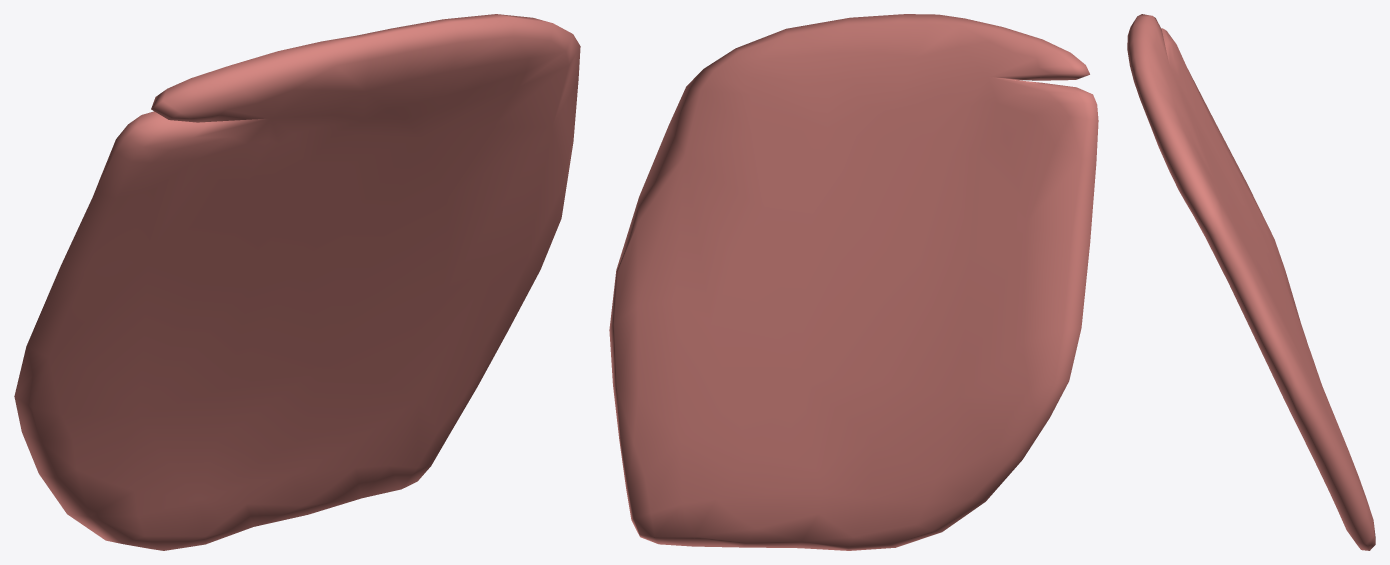
3 views of the same model, side by side, from view 1: azimuth 30°, elevation 25°; view 2: azimuth 150°, elevation 25°; view 3: azimuth 270°, elevation 25° (orthographic). The views are drawn at different scales.
Parts seen in each view (by area): view 1: ZA_23336769a21a4217; view 2: ZA_23336769a21a4217; view 3: ZA_23336769a21a4217.
Part boxes in pixels (bbox=[...]): ZA_23336769a21a4217: bbox=[14, 14, 580, 550]; ZA_23336769a21a4217: bbox=[609, 14, 1098, 550]; ZA_23336769a21a4217: bbox=[1127, 14, 1375, 550].
Bounding box in the file's own units: 0.00702 × 0.00732 × 0.00396.
